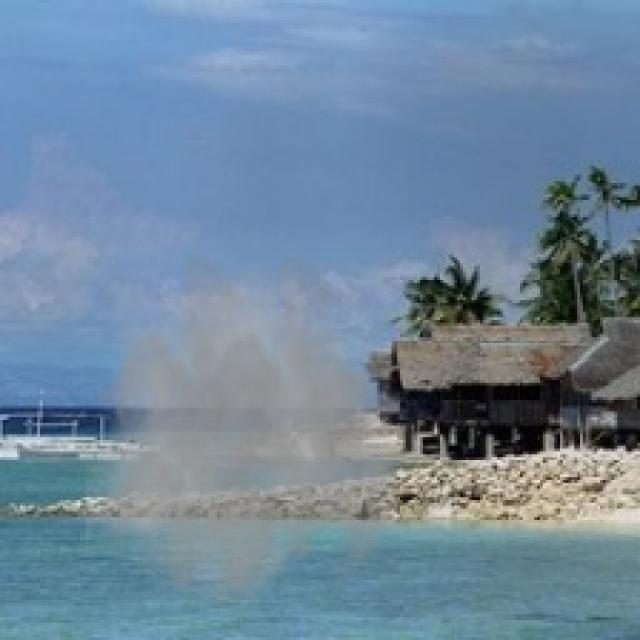Smoke: (86, 248, 428, 620)
